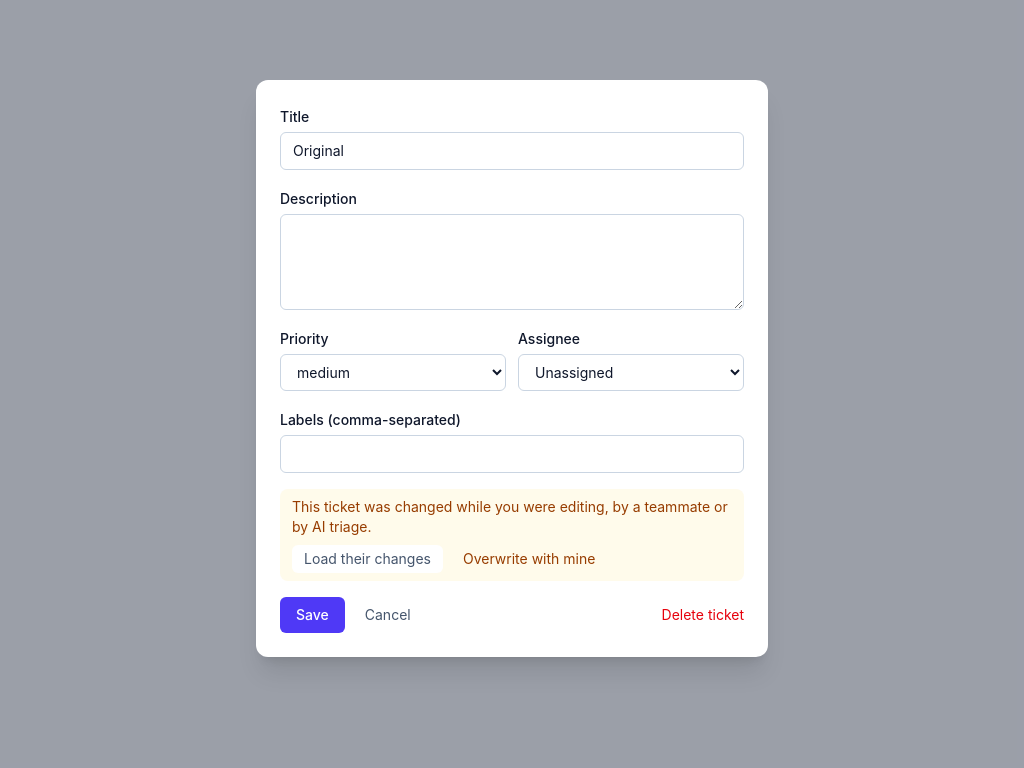
it: TicketModal conflicts › 'Load their changes' replaces the form with the saved ticket
Click the button "Load their changes".
click(368, 559)  # box x1=292 y1=545 x2=443 y2=573
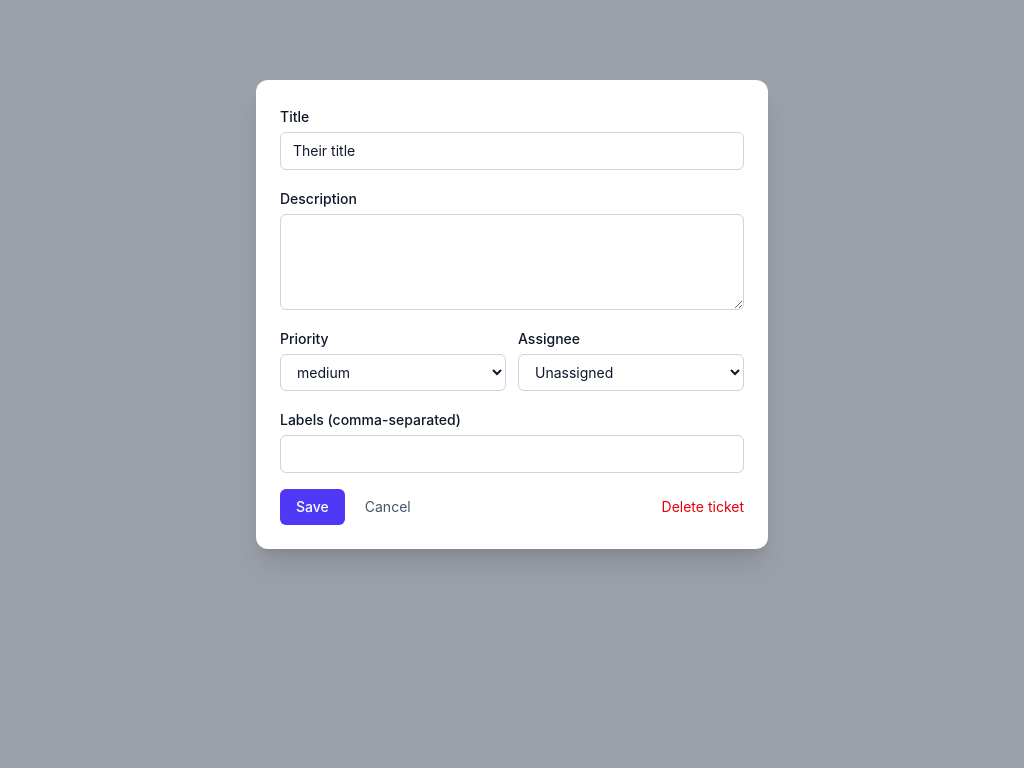
expect the field labelled "Title" holds "Their title": met, box x1=280 y1=132 x2=744 y2=170
expect the message is gone: met
